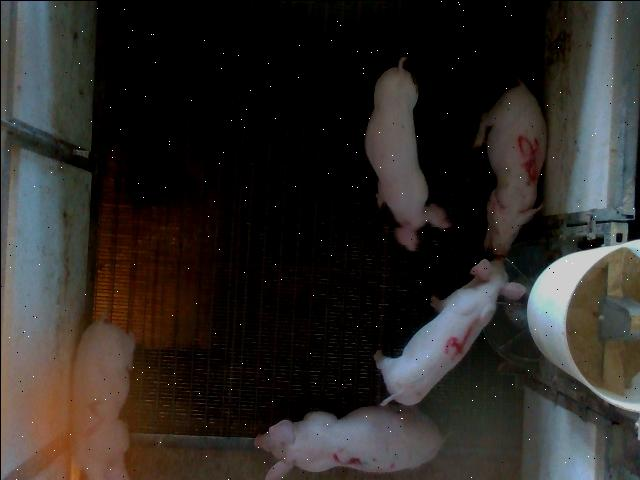pig-2: (72, 320, 134, 478)
pig-3: (254, 405, 442, 479)
pig-4: (375, 255, 523, 404)
pig-5: (471, 76, 546, 254)
